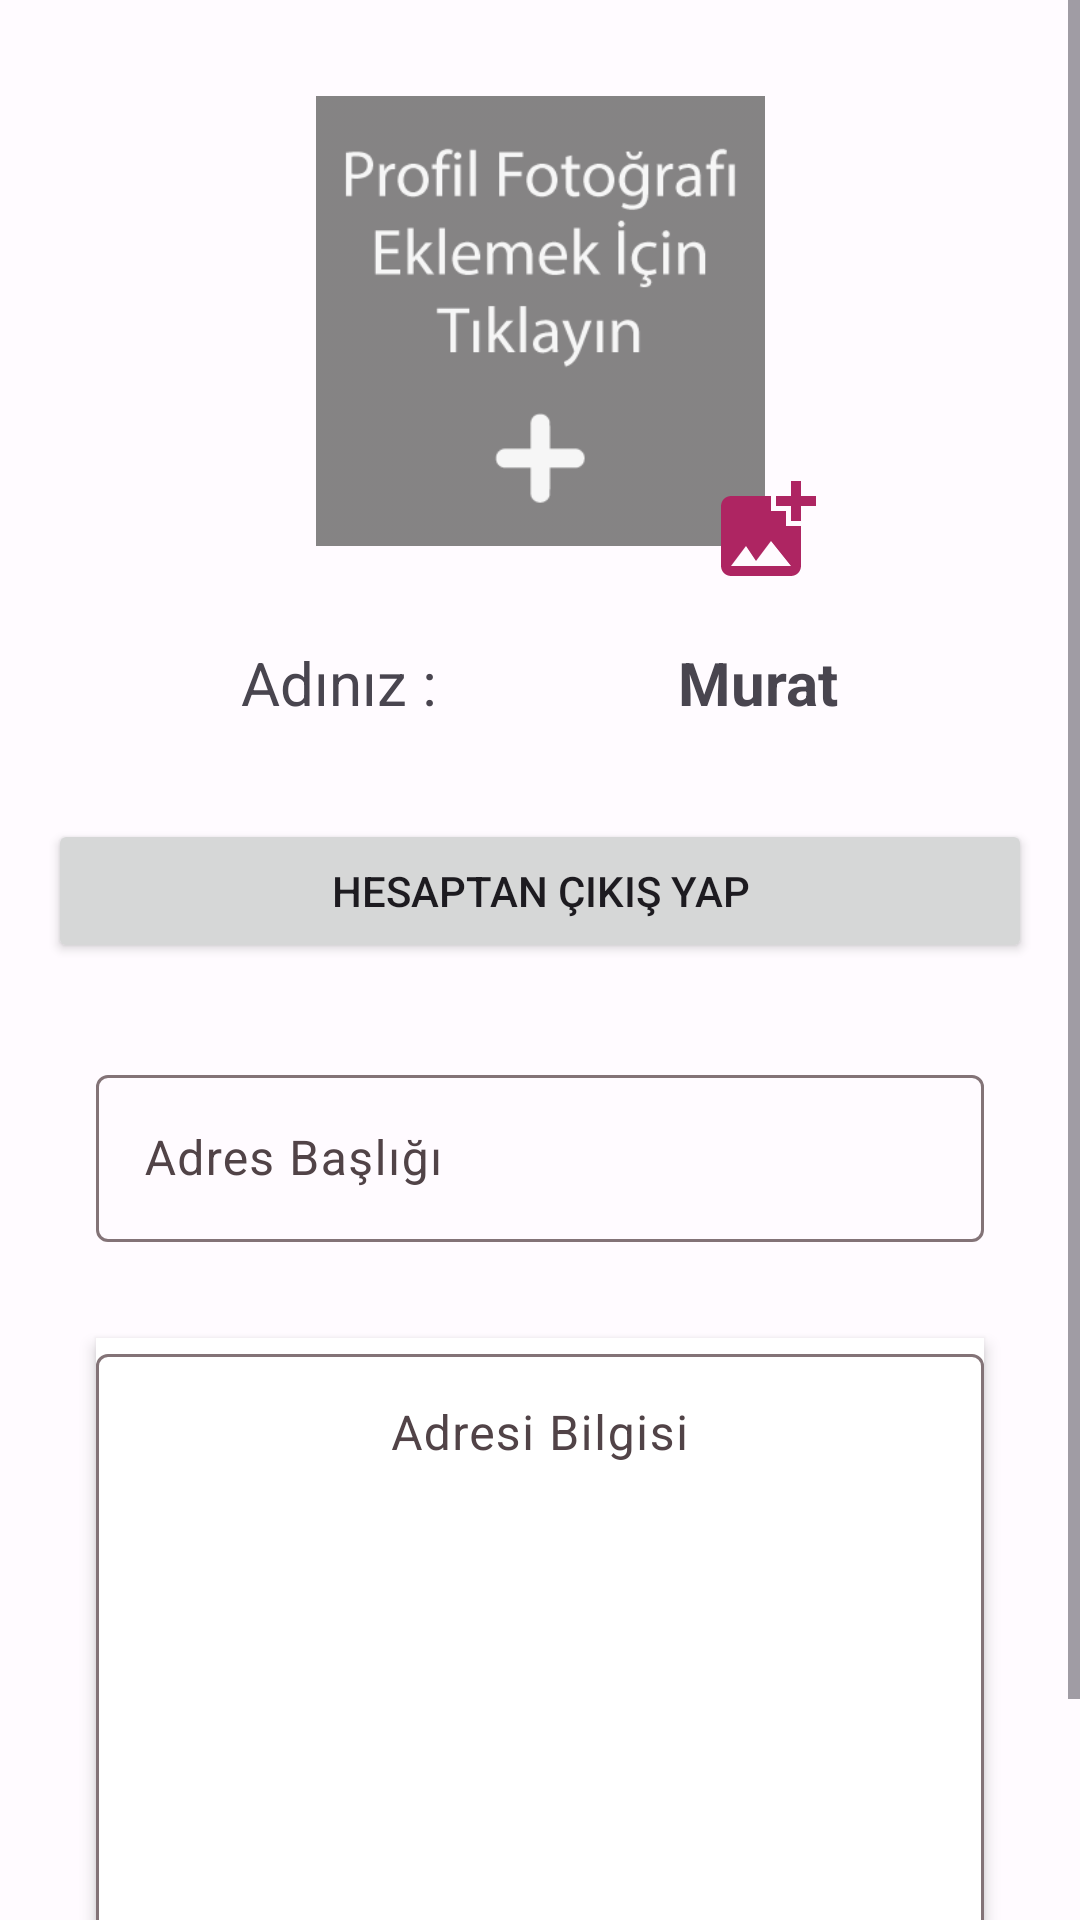

Icons on this 1080×1920 Android screen, each with the point to tap as [x,y]:
add photo alternate: [761,523]
